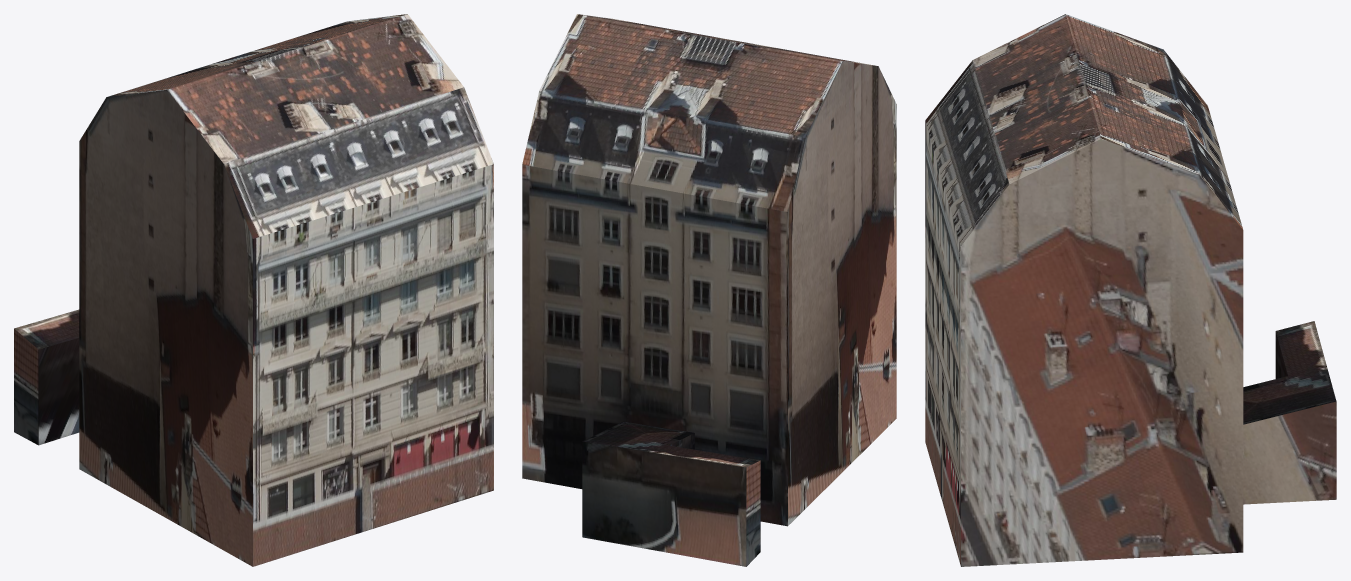
3 renders of one model, left to right at view 1: azimuth 30°, elevation 25°; view 2: azimuth 150°, elevation 25°; view 3: azimuth 270°, elevation 25°, orthographic. The views are drawn at different scales.
Visible parts, largest first — view 1: Z_UP; view 2: Z_UP; view 3: Z_UP.
Boxes of the visible parts, x1,y1,x2,y2 form: Z_UP: (14, 14, 493, 566); Z_UP: (522, 14, 896, 566); Z_UP: (925, 14, 1336, 566).
Size of the model in its own units: 21.7 by 29.6 by 26.16.
2 materials, 1 textured.
